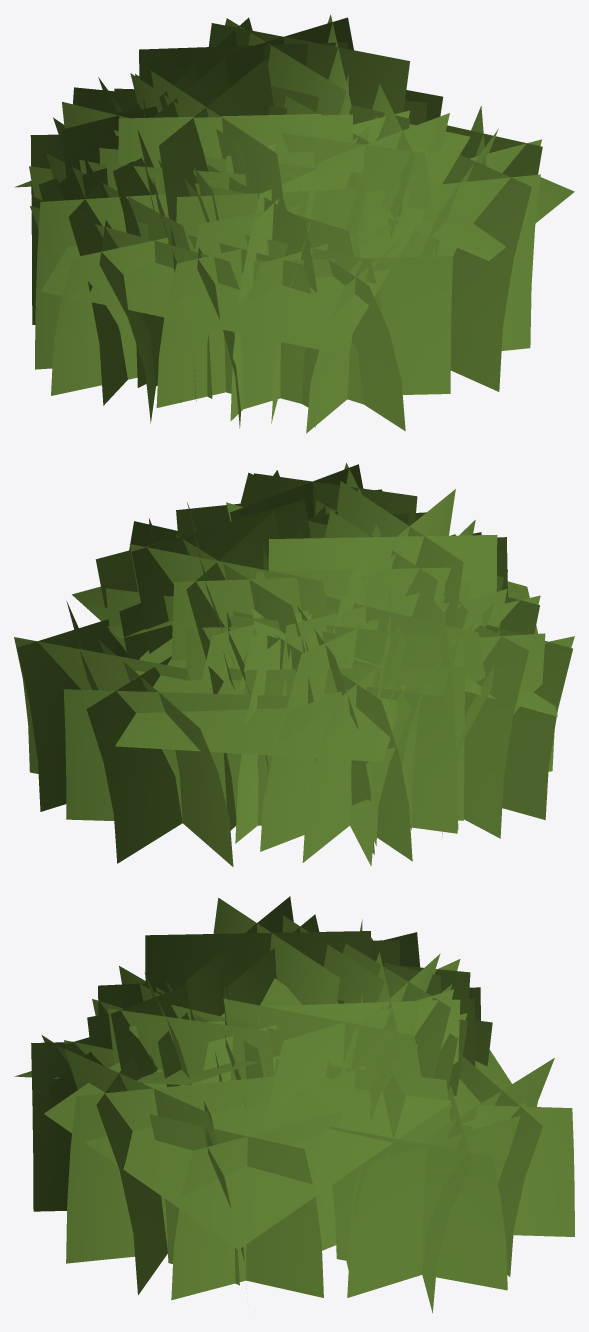
File: wildflower_clump_c.glb
The picture shows the model from 3 angles, top to bottom: view 1: azimuth 30°, elevation 25°; view 2: azimuth 150°, elevation 25°; view 3: azimuth 270°, elevation 25°; orthographic projection. The views are drawn at different scales.
Parts seen in each view (by area): view 1: wildflower_clump_c_lod0; view 2: wildflower_clump_c_lod0; view 3: wildflower_clump_c_lod0.
Boxes of the visible parts, <box> form: wildflower_clump_c_lod0: <box>15,14,574,433</box>; wildflower_clump_c_lod0: <box>14,463,574,866</box>; wildflower_clump_c_lod0: <box>14,896,574,1312</box>.
Size of what is drawn, in the model's own units: 1.08 by 0.5056 by 1.06.
